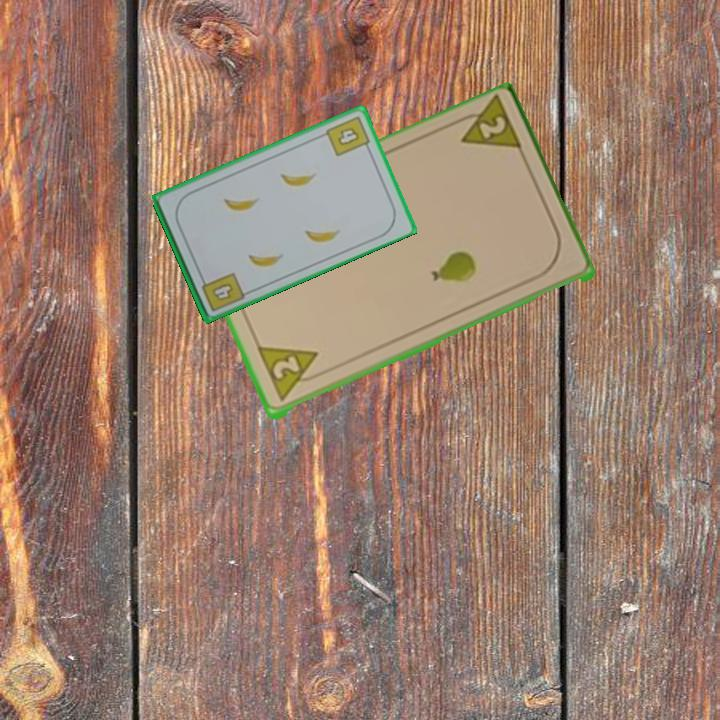2p: (448, 94, 526, 156), (254, 343, 327, 407)
4b: (322, 112, 374, 159), (197, 268, 247, 314)
